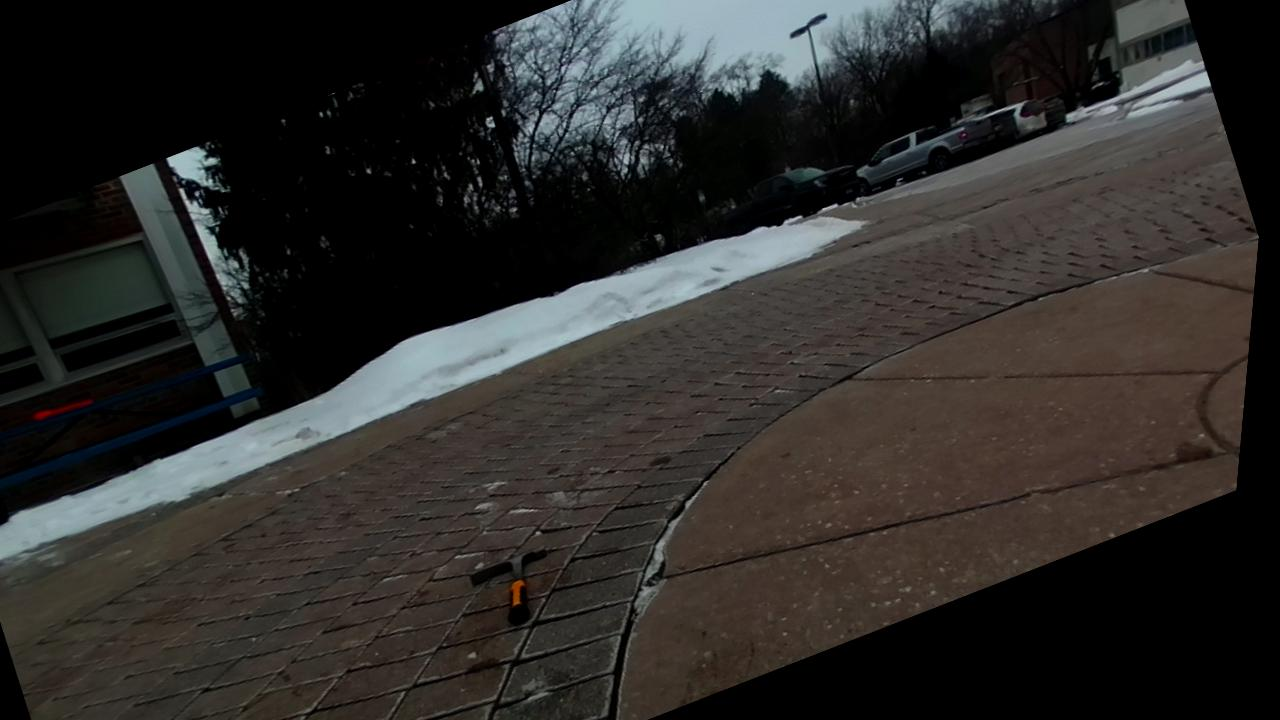pick: (470, 548, 547, 624)
